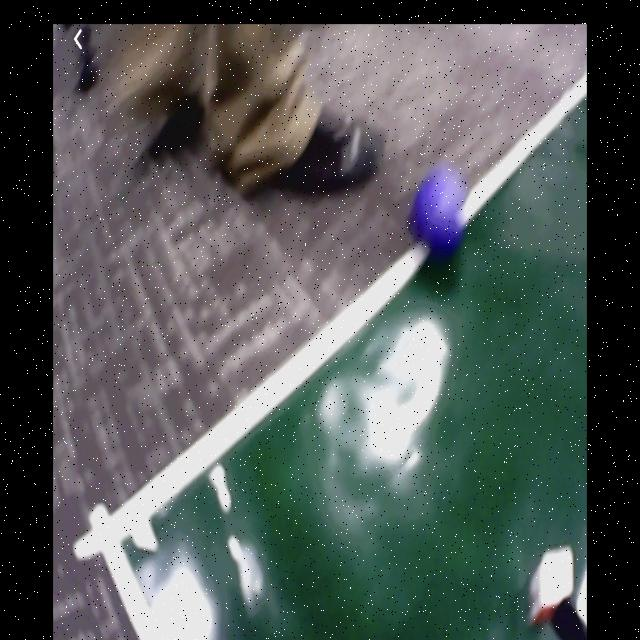ball: (419, 171, 465, 251)
